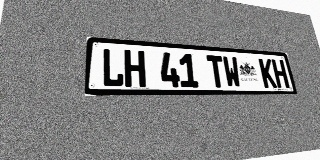1: (178, 53, 198, 87)
4: (159, 52, 180, 87)
H: (124, 50, 146, 87), (271, 59, 290, 88)
K: (258, 58, 277, 88)
L: (101, 48, 124, 87)
T: (206, 55, 226, 88)
W: (222, 56, 242, 88)
